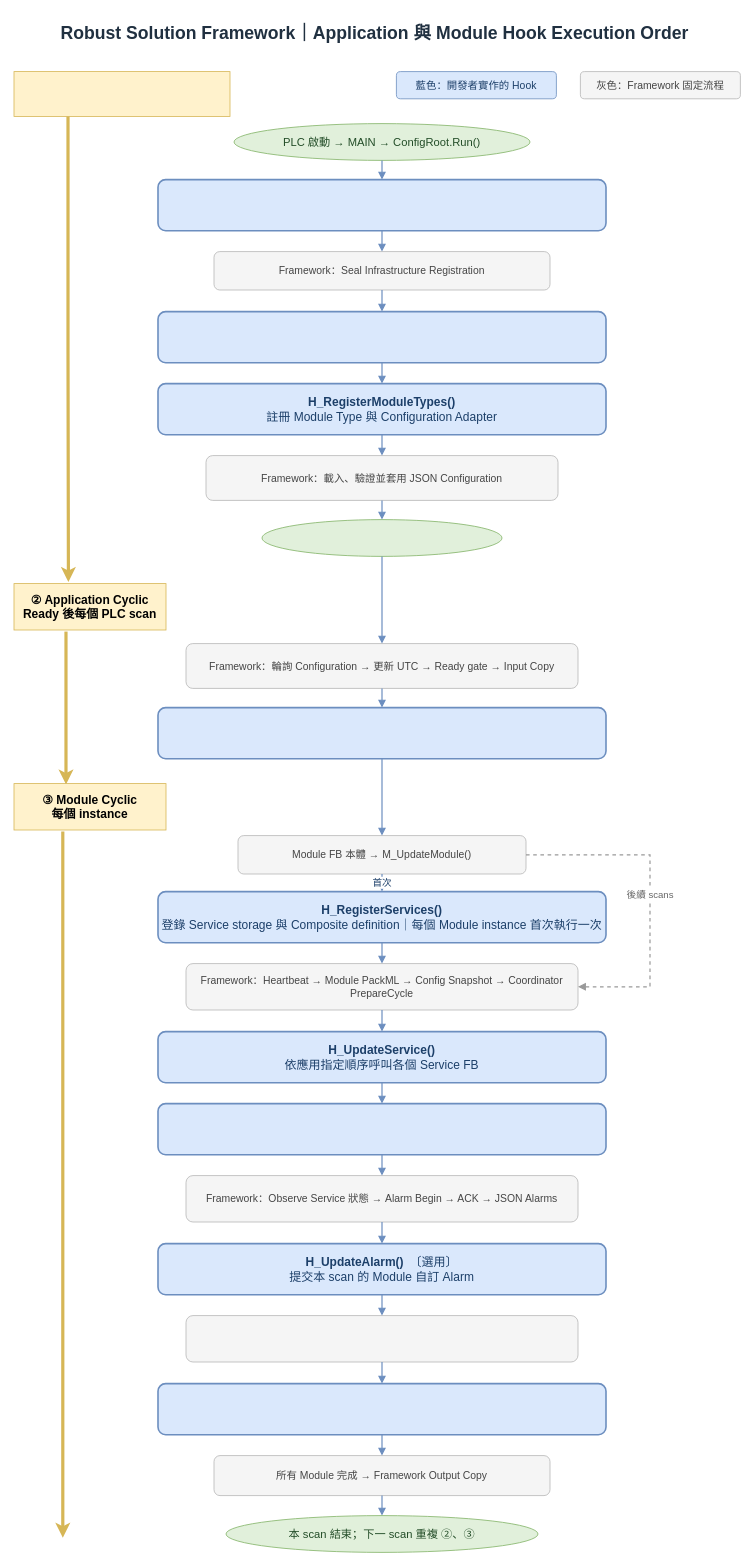
Some shapes in this 754 by 1566 pixel diagram are drawn without their labels. Here are the shapes that lost their labels. From the top down, the centre of each, then its label:
At (x=121, y=93): "① 啟動配置｜Application hooks：只在第一次註冊時執行".
At (x=381, y=204): "H_RegisterIo() 宣告實體 I/O 與 ShareMemory 可連結節點".
At (x=381, y=336): "H_RegisterBaseUnits() 註冊 Module 可引用的 BaseUnit instance".
At (x=381, y=537): "Ready = TRUE".
At (x=381, y=732): "H_RunModules() 依應用需求呼叫 Enabled 且 Valid 的 Module instances".
At (x=381, y=1128): "H_UpdateBaseUnit() 執行 Axis／其他 BaseUnit 的 cyclic update".
At (x=381, y=1338): "Framework：Service Alarms → Alarm Publish → Service Data → JSON Variables".
At (x=381, y=1408): "H_UpdateVariable() 〔選用〕 提交本 scan 的 Module 自訂 SVID".
